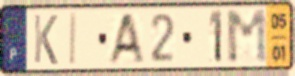1: (208, 8, 224, 67)
2: (149, 11, 178, 65)
A: (105, 11, 146, 66)
I: (68, 10, 79, 68)
K: (32, 12, 59, 67)
M: (224, 8, 270, 66)
